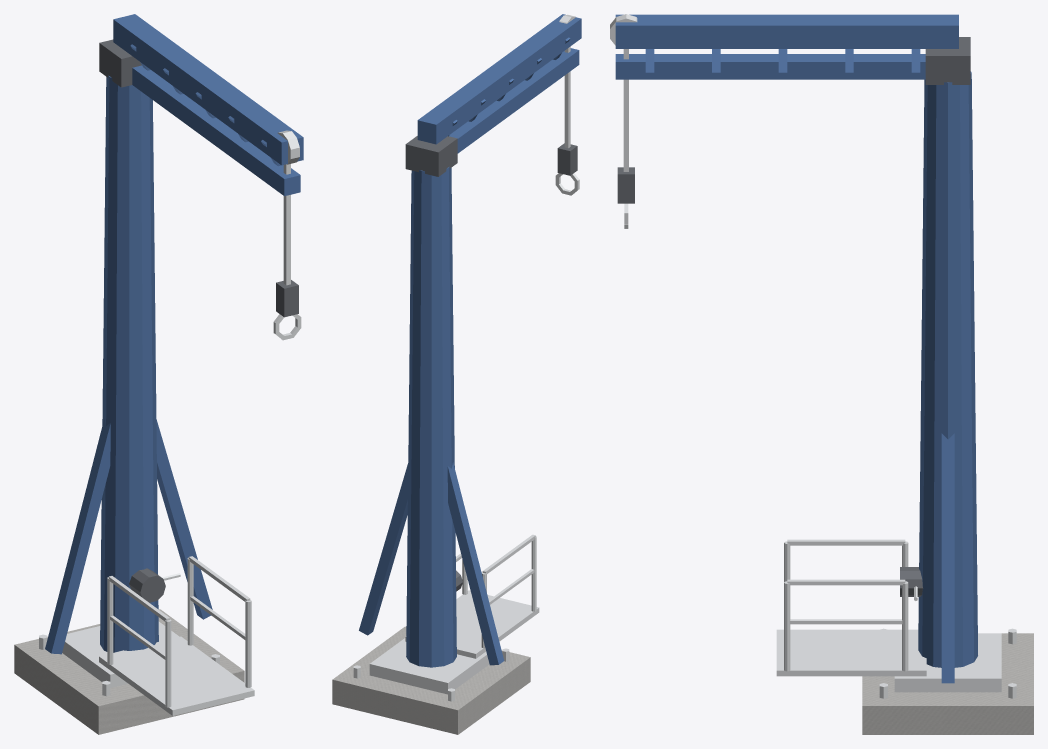
The picture shows the model from 3 angles, left to right: view 1: azimuth 30°, elevation 25°; view 2: azimuth 150°, elevation 25°; view 3: azimuth 270°, elevation 25°; orthographic projection. The views are drawn at different scales.
Parts seen in each view (by area): view 1: crane-slew/navy (×5), marina-and-yacht-club-mast-crane, crane-slew/steel (×6), crane-slew/charcoal (×3); view 2: crane-slew/navy (×5), marina-and-yacht-club-mast-crane, crane-slew/steel (×3), crane-slew/charcoal (×2); view 3: crane-slew/navy (×4), marina-and-yacht-club-mast-crane, crane-slew/steel (×4), crane-slew/charcoal.
Boxes of the visible parts, left/top/right/bottom form: crane-slew/navy (×5): left=45, top=14, right=303, bottom=654; marina-and-yacht-club-mast-crane: left=14, top=609, right=244, bottom=734; crane-slew/steel (×6): left=99, top=164, right=290, bottom=715; crane-slew/charcoal (×3): left=99, top=39, right=298, bottom=602; crane-slew/navy (×5): left=359, top=14, right=581, bottom=667; marina-and-yacht-club-mast-crane: left=332, top=626, right=530, bottom=734; crane-slew/steel (×3): left=405, top=46, right=570, bottom=658; crane-slew/charcoal (×2): left=405, top=136, right=577, bottom=176; crane-slew/navy (×4): left=615, top=14, right=977, bottom=683; marina-and-yacht-club-mast-crane: left=862, top=628, right=1033, bottom=734; crane-slew/steel (×4): left=776, top=539, right=926, bottom=676; crane-slew/charcoal: left=925, top=37, right=970, bottom=84.
Bounding box in the file's own units: 1.78 × 7.02 × 3.95.
4 materials, 1 textured.
